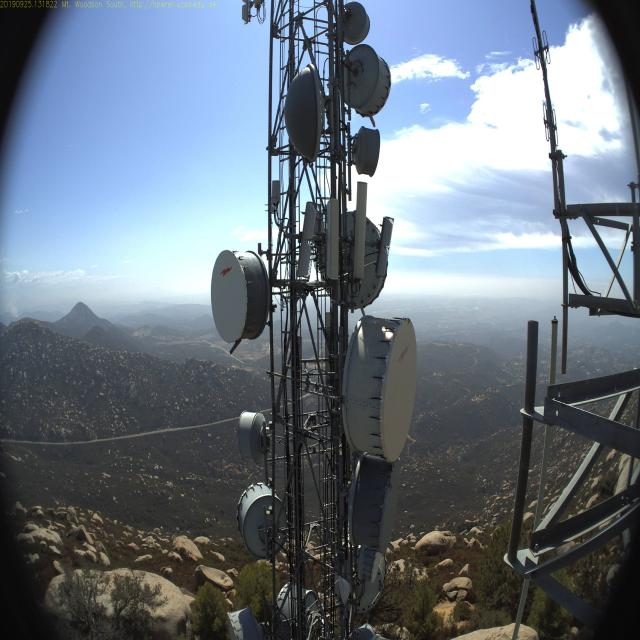smoke: (1, 298, 22, 322)
